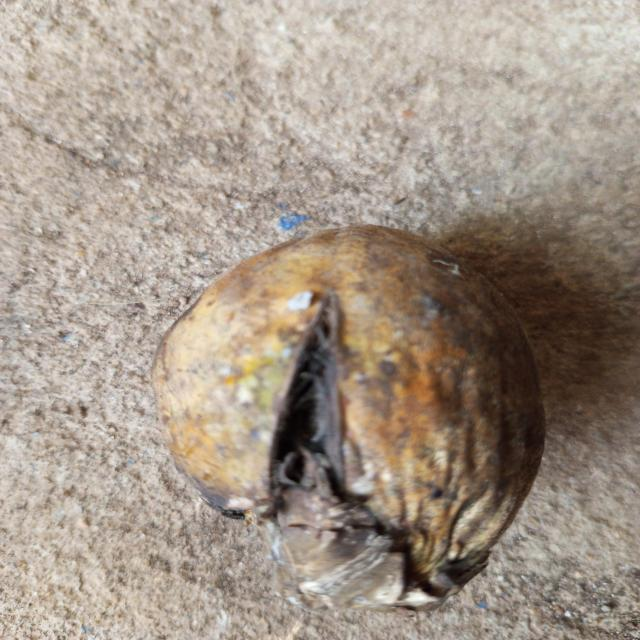damaged: (150, 224, 547, 614)
